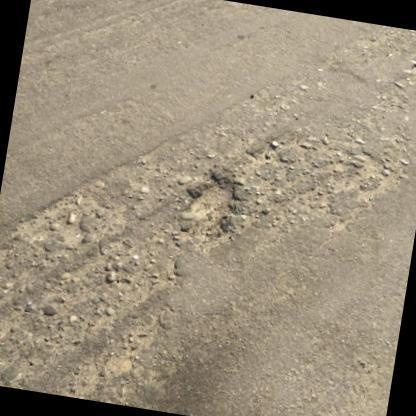pothole: (249, 128, 403, 202), (178, 163, 253, 240)
